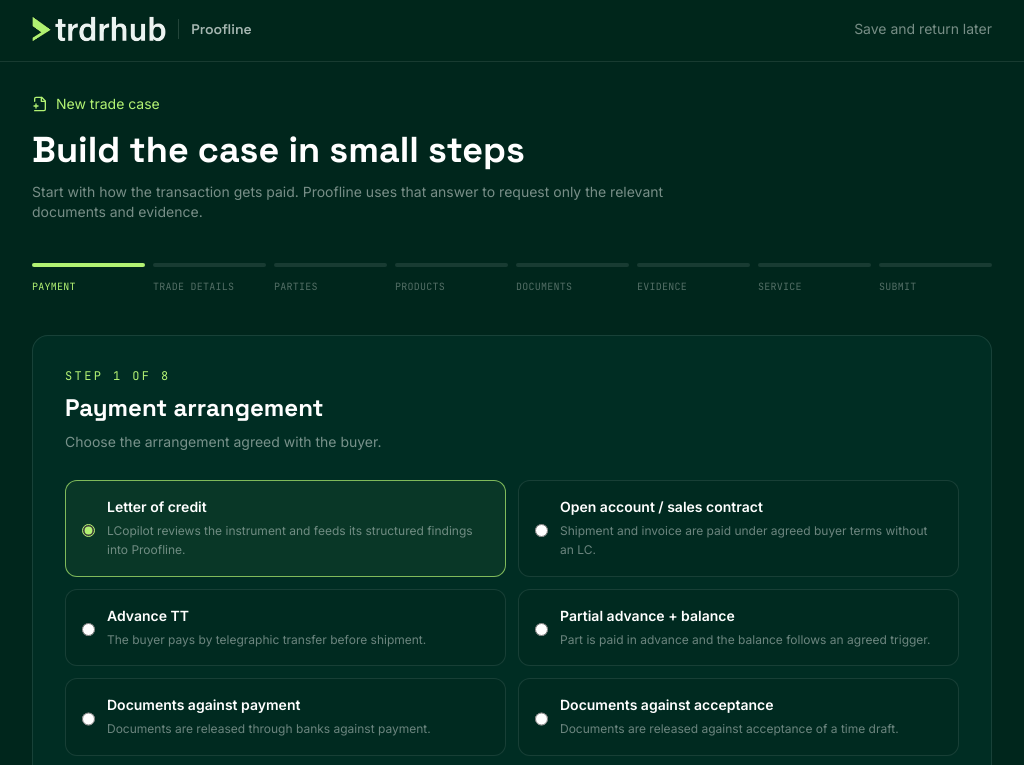
Test: Proofline new case › explains the applicable evidence when open account is selected
The width and height of the screenshot is (1024, 765).
Click the radio button labelled "Open account / sales contract": (542, 530) [535,501,548,560]
(page scrolled)
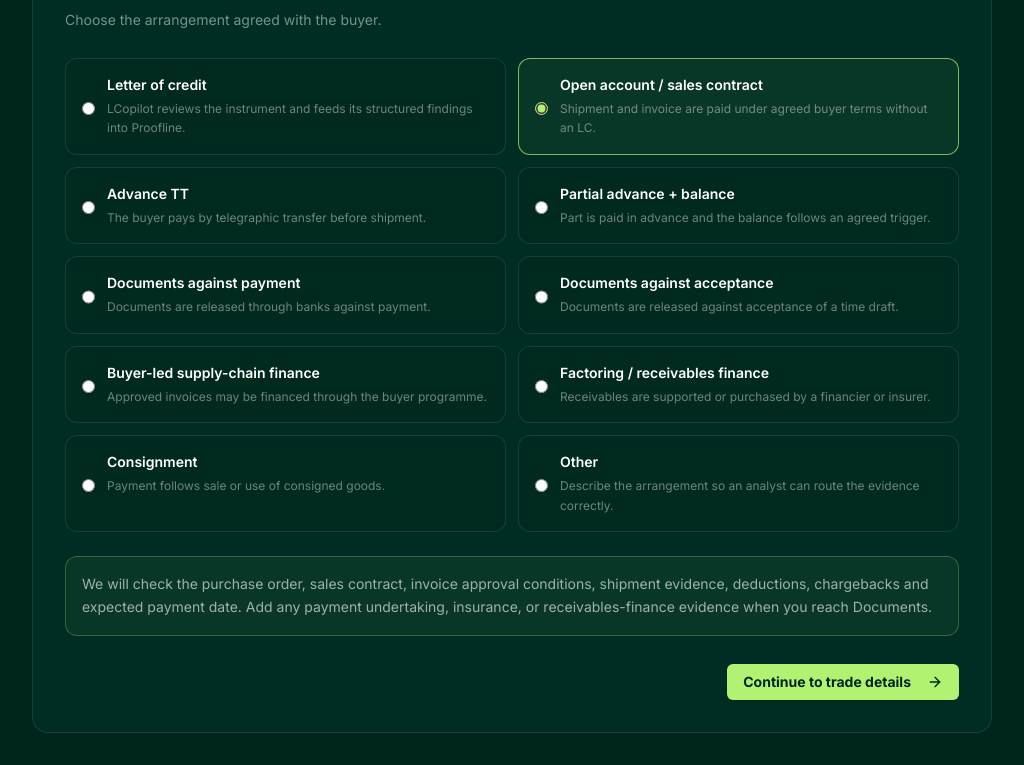
Check: the text "payment undertaking, insurance, or receivables-finance evidence" is shown, box [82,575,932,615]
